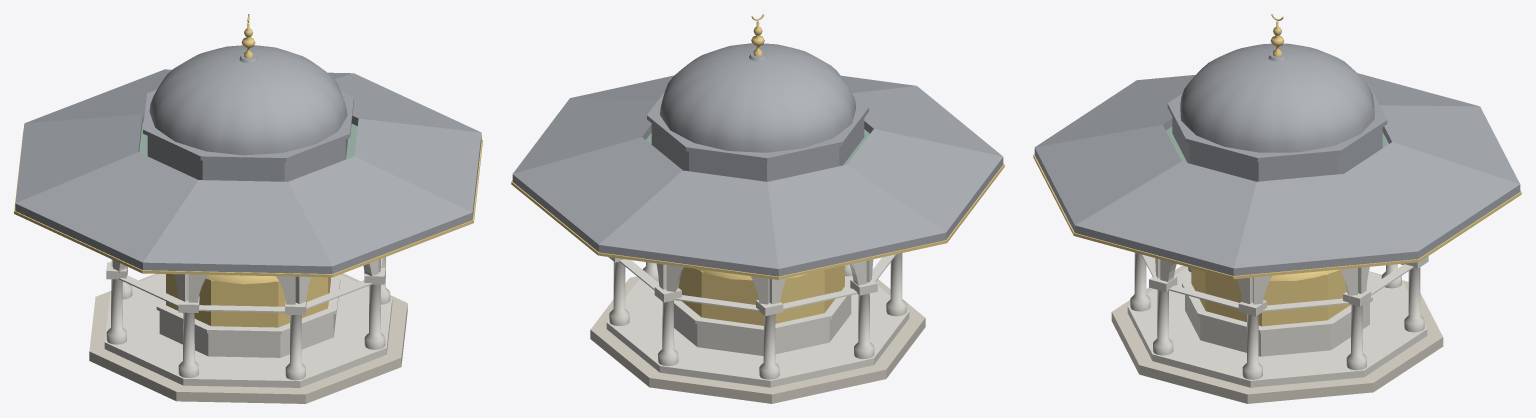
File: hagia-sophia-sadirvan.glb
3 views of the same model, side by side, from view 1: azimuth 30°, elevation 25°; view 2: azimuth 150°, elevation 25°; view 3: azimuth 270°, elevation 25° (orthographic).
Parts seen in each view (by area): view 1: hagia-sophia-sadirvan; view 2: hagia-sophia-sadirvan; view 3: hagia-sophia-sadirvan.
Boxes of the visible parts, x1,y1,x2,y2 form: hagia-sophia-sadirvan: (14,14,482,403); hagia-sophia-sadirvan: (511,14,1004,403); hagia-sophia-sadirvan: (1033,14,1521,403).
Bounding box in the file's own units: 16.32 × 11.76 × 16.32.
